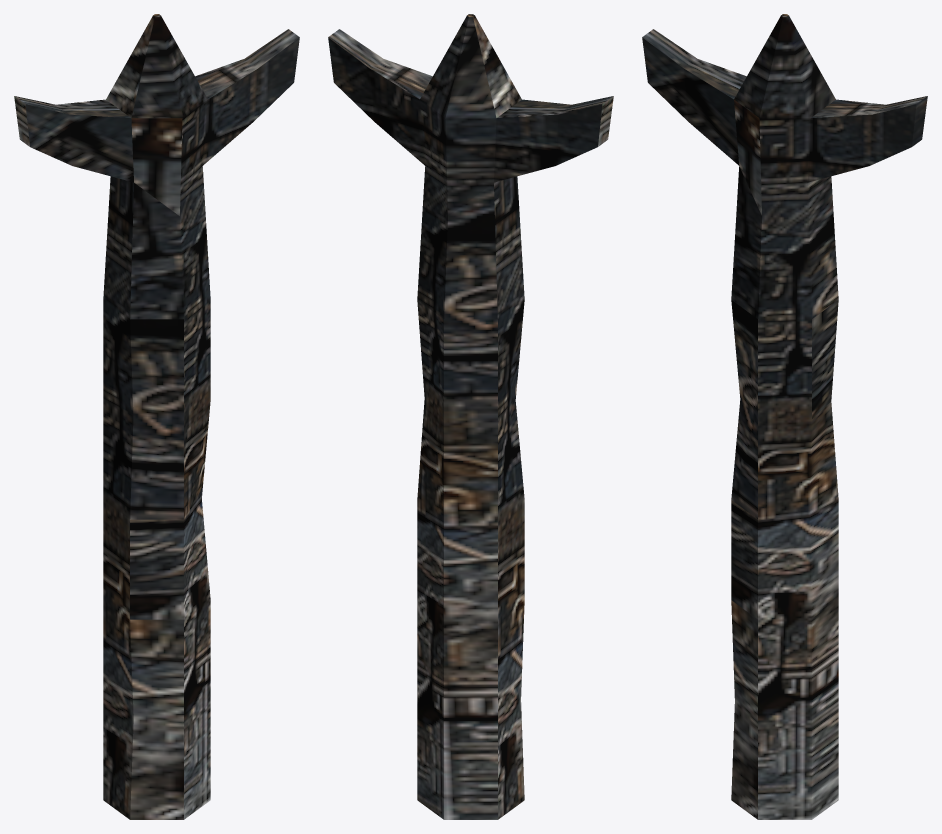
The model's file is Totem4.fbx.
3 views of the same model, side by side, from view 1: azimuth 30°, elevation 25°; view 2: azimuth 150°, elevation 25°; view 3: azimuth 330°, elevation 25° (orthographic).
Parts seen in each view (by area): view 1: Circle.100; view 2: Circle.100; view 3: Circle.100.
Boxes of the visible parts, x1,y1,x2,y2 form: Circle.100: (14, 14, 299, 819); Circle.100: (328, 14, 613, 819); Circle.100: (642, 14, 927, 819).
Size of the model in its own units: 266 by 727 by 90.12.
